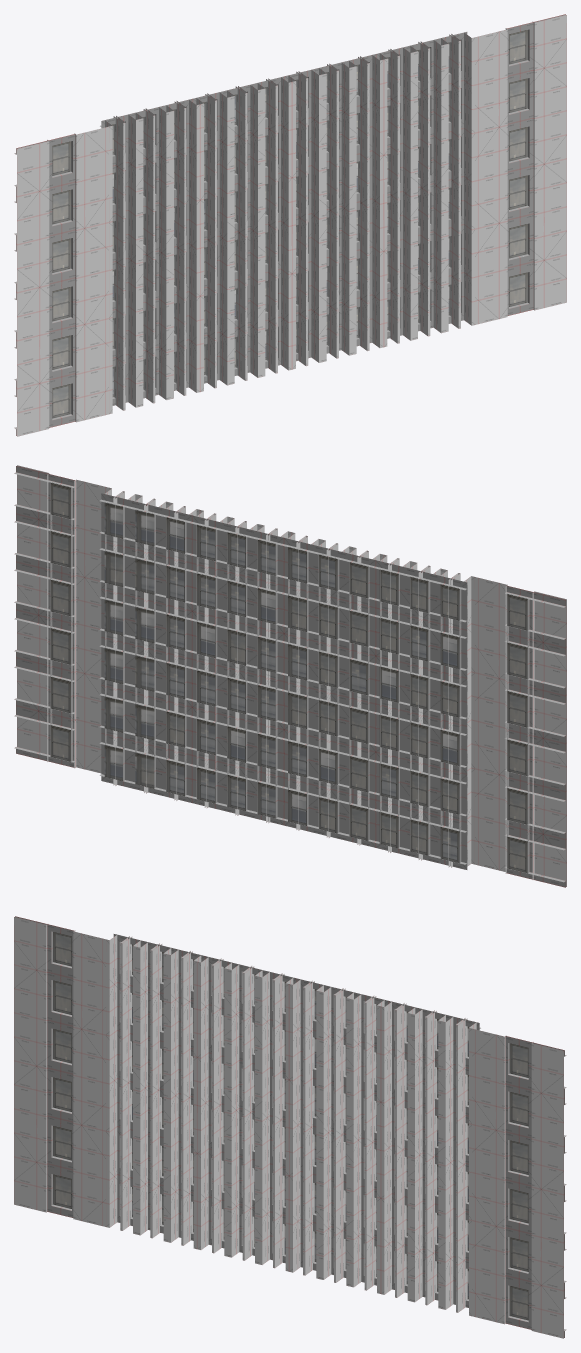
The picture shows the model from 3 angles, top to bottom: view 1: azimuth 30°, elevation 25°; view 2: azimuth 150°, elevation 25°; view 3: azimuth 330°, elevation 25°; orthographic projection.
Parts seen in each view (by area): view 1: B_03_6x_a, B_03_6x_extra_a; view 2: B_03_6x_a, B_03_6x_extra_a; view 3: B_03_6x_a, B_03_6x_extra_a.
Boxes of the visible parts, x1,y1,x2,y2 form: B_03_6x_a: (14,14,566,436); B_03_6x_extra_a: (113,34,460,410); B_03_6x_a: (14,465,566,887); B_03_6x_extra_a: (113,491,460,867); B_03_6x_a: (14,916,566,1338); B_03_6x_extra_a: (120,936,467,1312).
Size of the model in its own units: 120 by 3.67 by 60.
